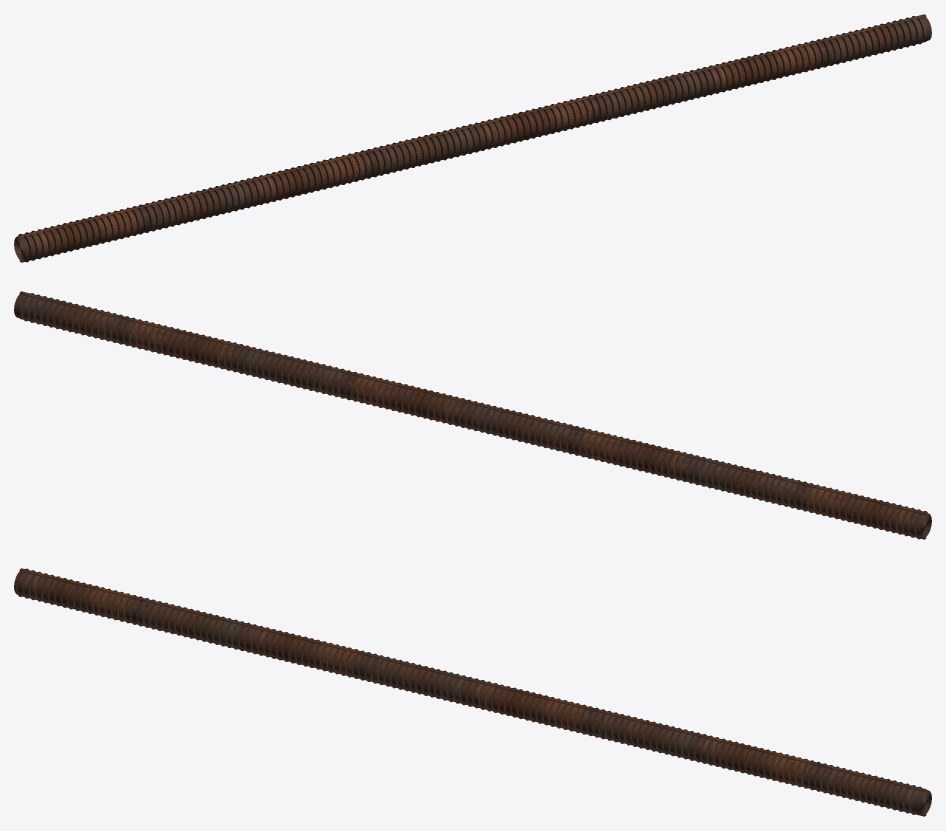
File: EST-ACO-007.glb
3 renders of one model, top to bottom at view 1: azimuth 30°, elevation 25°; view 2: azimuth 150°, elevation 25°; view 3: azimuth 330°, elevation 25°, orthographic.
Parts seen in each view (by area): view 1: EST-ACO-007_barra; view 2: EST-ACO-007_barra; view 3: EST-ACO-007_barra.
Part boxes in pixels (x1,y1,x2,y2): EST-ACO-007_barra: (14,14,931,262); EST-ACO-007_barra: (14,291,931,539); EST-ACO-007_barra: (14,568,931,816).
Bounding box in the file's own units: 1 × 0.0279 × 0.0279.
Materials: 1 (1 with a texture image).
